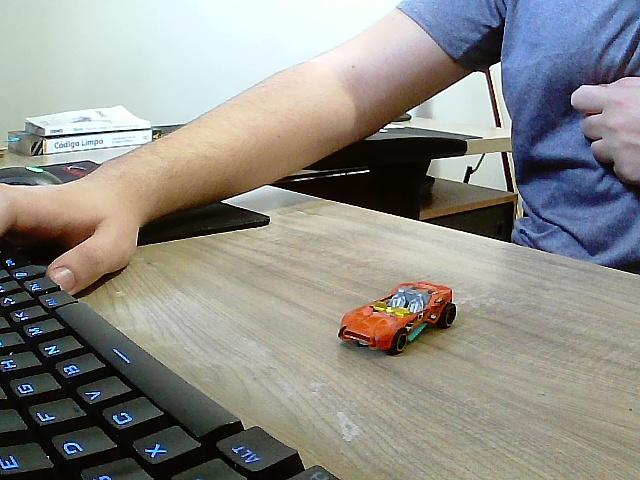Carro: (340, 283, 457, 355)
